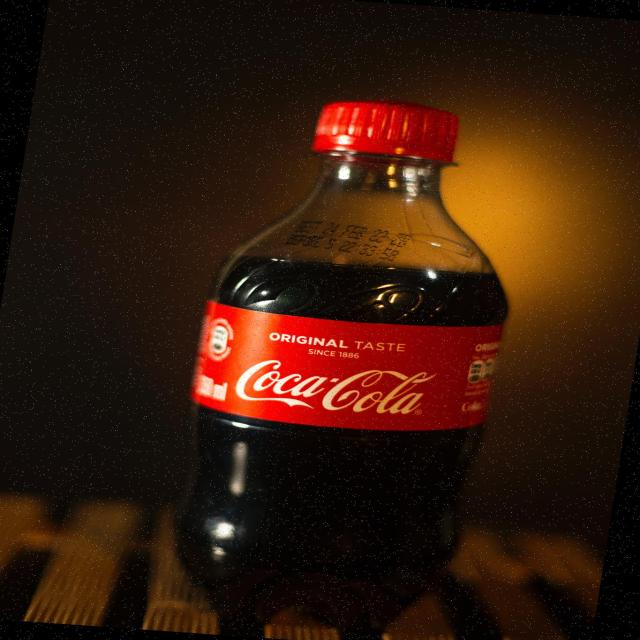coca-cola: (225, 350, 445, 422)
